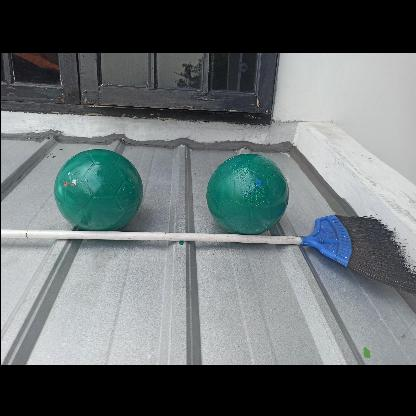green_ball: (52, 146, 136, 230), (206, 150, 286, 232)
